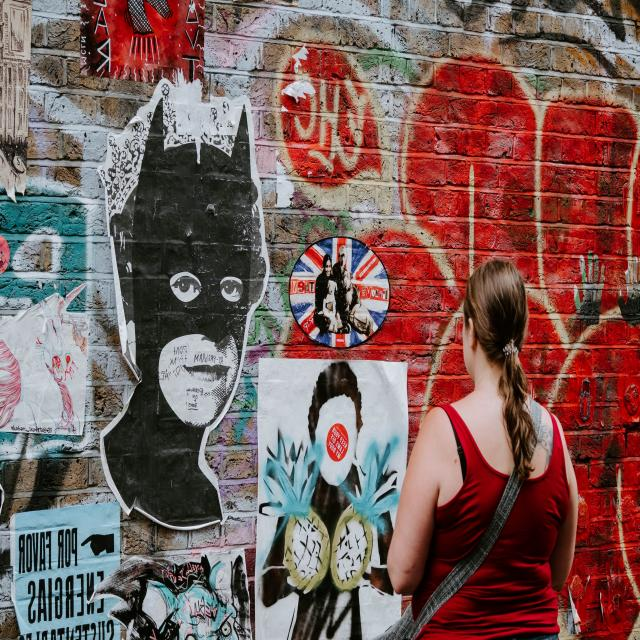adult: (386, 253, 588, 640)
